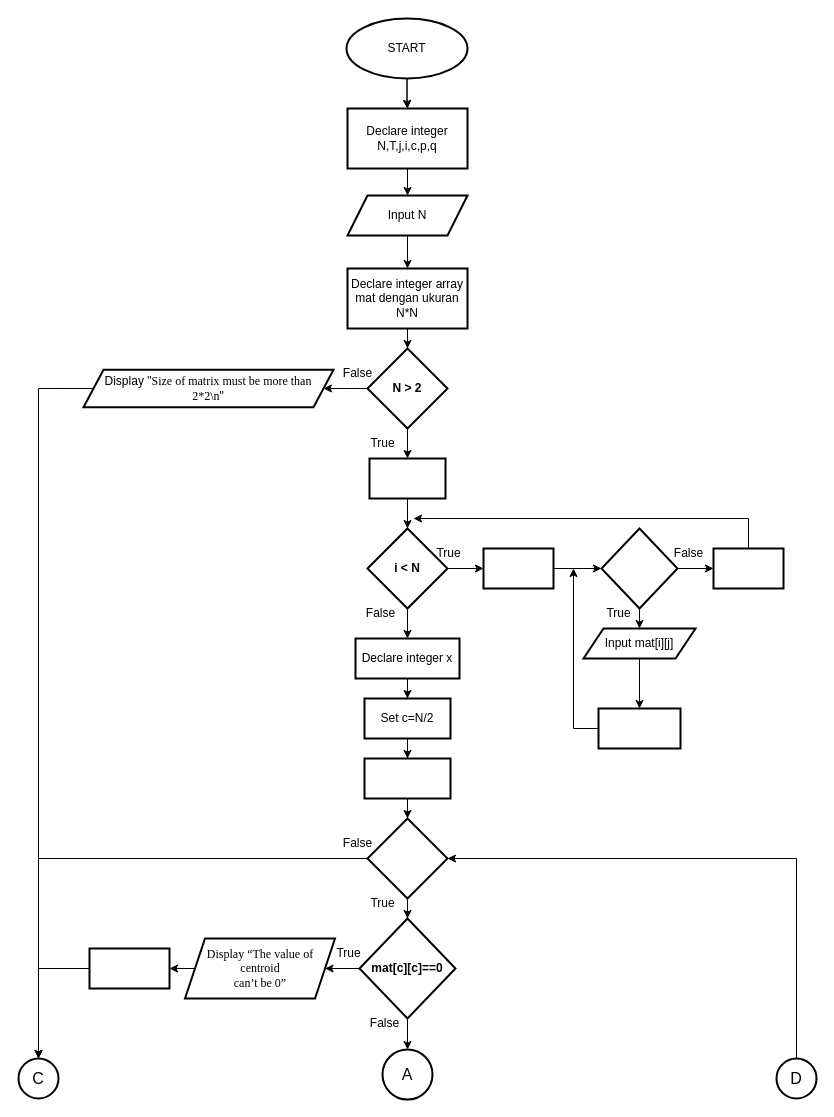
Image size: 834x1117. Some labels were removed from this diagram. The shapes that lost their labels are listed below. From the top down, each one's centre as x and y in pixels, then its label:
the point at 407,478: Set i=0
the point at 518,568: Set j=0
the point at 639,568: j < N
the point at 748,568: Set i++
the point at 639,728: Set j++
the point at 407,778: Set x=0
the point at 407,858: x < 1
the point at 129,968: Break
